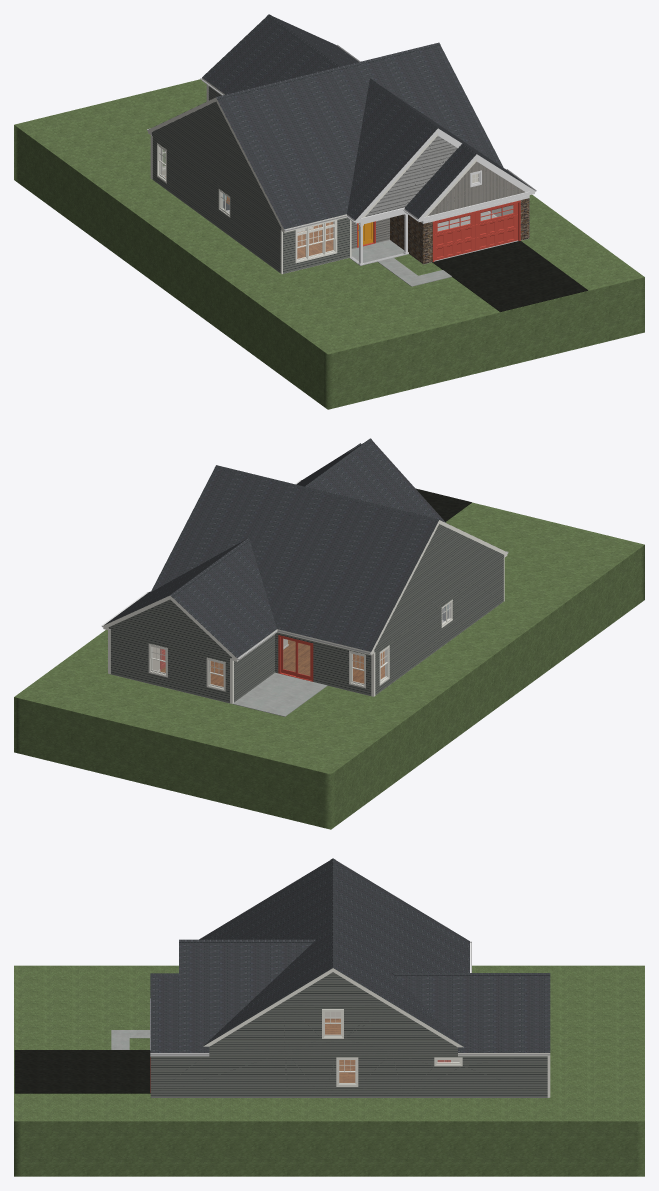
The model's file is house.dae.
3 renders of one model, top to bottom at view 1: azimuth 30°, elevation 25°; view 2: azimuth 150°, elevation 25°; view 3: azimuth 270°, elevation 25°, orthographic.
Visible parts, largest first — view 1: geo_132, geo_131, geo_106, geo_161, geo_159, geo_11, geo_87, geo_134, geo_135, geo_61, geo_150, geo_127 (+1 smaller); view 2: geo_132, geo_131, geo_106, geo_11, geo_61, geo_127, geo_71, geo_159, geo_161; view 3: geo_132, geo_131, geo_106, geo_161, geo_11, geo_127, geo_71, geo_61, geo_87.
Part boxes in pixels (bbox=[...]): geo_132: bbox=[14, 79, 644, 409]; geo_131: bbox=[156, 14, 533, 229]; geo_106: bbox=[151, 86, 529, 273]; geo_161: bbox=[432, 241, 588, 311]; geo_159: bbox=[357, 200, 520, 261]; geo_11: bbox=[148, 78, 478, 274]; geo_87: bbox=[147, 44, 536, 265]; geo_134: bbox=[365, 136, 457, 216]; geo_135: bbox=[428, 161, 525, 215]; geo_61: bbox=[351, 211, 495, 286]; geo_150: bbox=[390, 198, 529, 264]; geo_127: bbox=[159, 147, 512, 258]; geo_132: bbox=[14, 502, 644, 829]; geo_131: bbox=[104, 438, 505, 658]; geo_106: bbox=[108, 524, 503, 702]; geo_11: bbox=[103, 520, 507, 703]; geo_61: bbox=[233, 672, 327, 716]; geo_127: bbox=[152, 603, 450, 686]; geo_71: bbox=[160, 640, 384, 686]; geo_159: bbox=[160, 635, 313, 681]; geo_161: bbox=[415, 488, 471, 521]; geo_132: bbox=[14, 965, 644, 1176]; geo_131: bbox=[150, 858, 550, 1052]; geo_106: bbox=[150, 972, 547, 1097]; geo_161: bbox=[14, 1050, 150, 1093]; geo_11: bbox=[203, 968, 550, 1097]; geo_127: bbox=[325, 1012, 459, 1082]; geo_71: bbox=[325, 1018, 355, 1082]; geo_61: bbox=[111, 1030, 149, 1049]; geo_87: bbox=[150, 941, 550, 1056].
Bounding box in the file's own units: 720 × 1235 × 402.
Materials: 49 (26 with a texture image).
